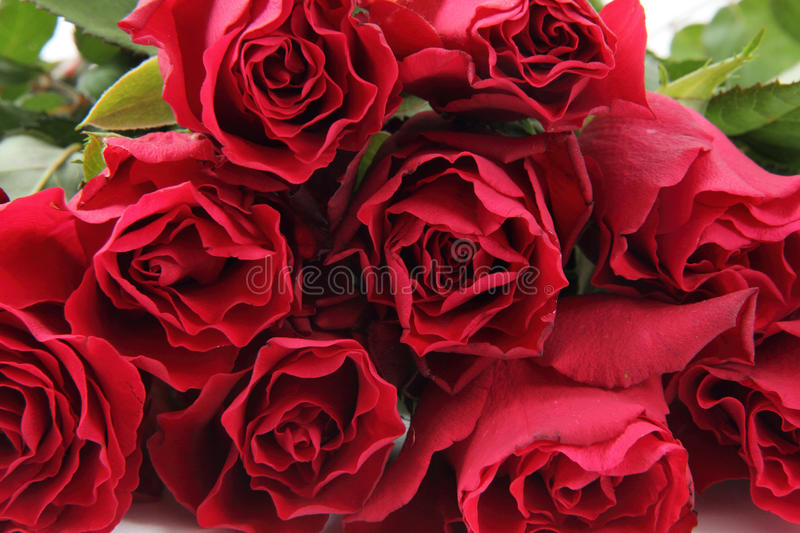RedRose: (334, 123, 574, 413), (117, 0, 425, 172), (159, 323, 411, 533), (574, 82, 800, 298), (4, 299, 147, 533)
